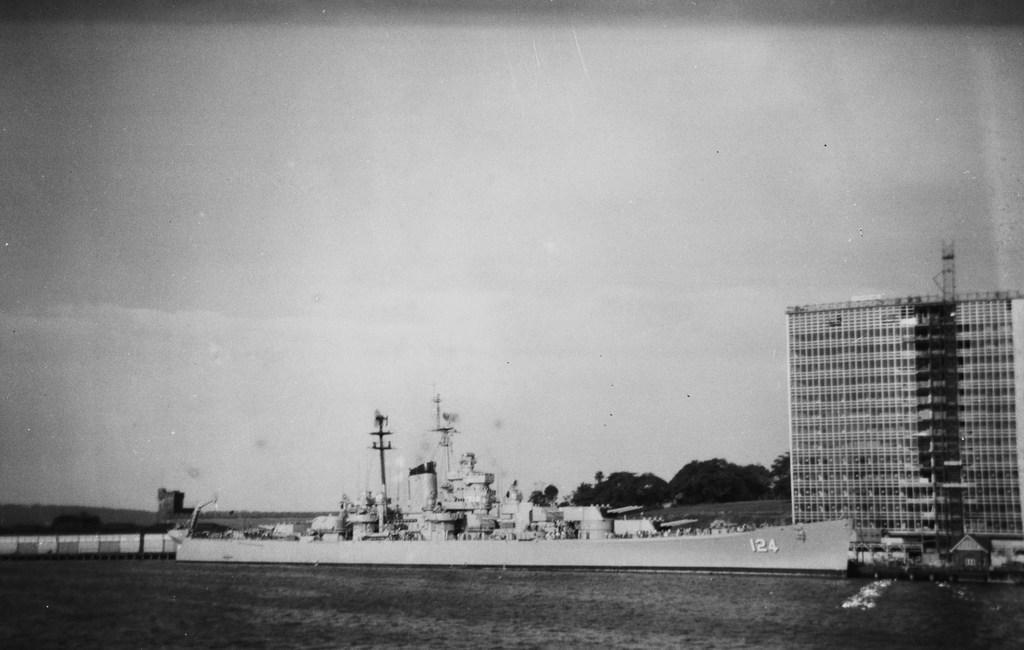Warship: (166, 410, 860, 576)
